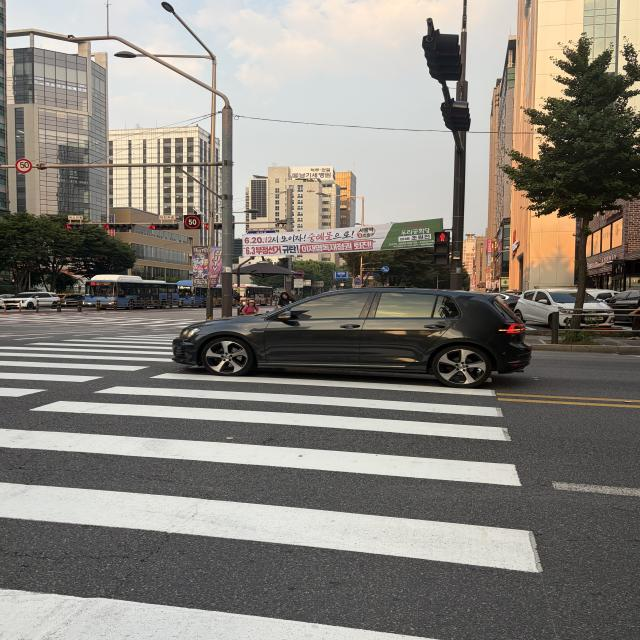car: (154, 268, 557, 410)
